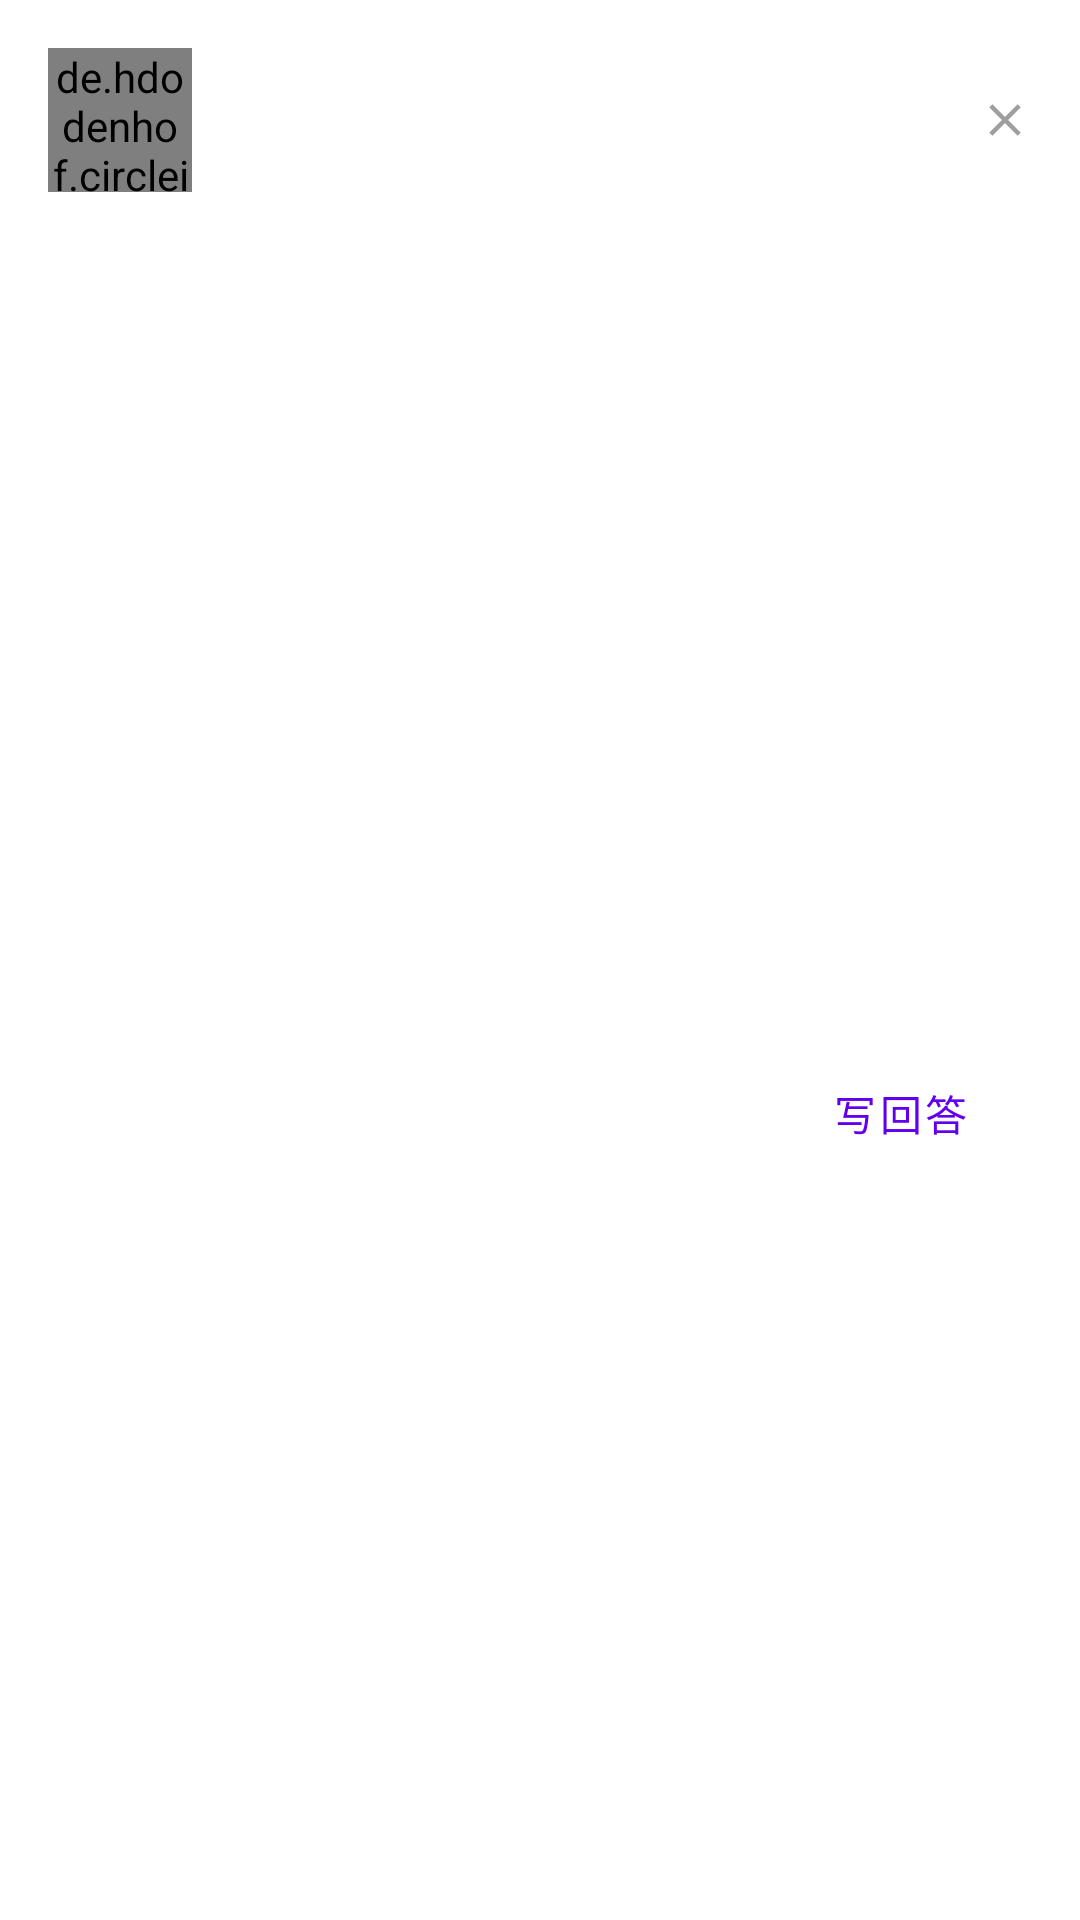

Icons on this 1080×1920 Android screen, each with the point to tap as [x,y]:
module baseline clear: [1005,120]
